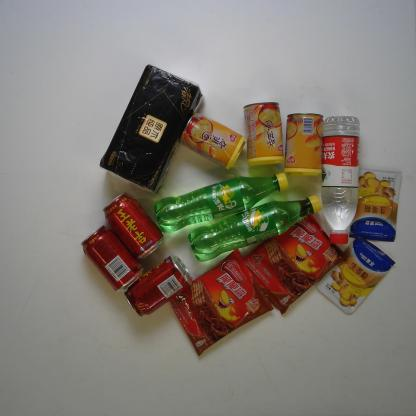Canned Food: (177, 111, 247, 171), (281, 109, 324, 179), (240, 101, 284, 166)
Dessert: (169, 246, 274, 358), (237, 210, 346, 317)
Drink: (189, 195, 326, 262), (155, 171, 292, 234), (318, 114, 360, 246), (80, 223, 144, 295), (122, 254, 193, 318), (102, 192, 164, 262)
Seasoner: (315, 236, 396, 317), (348, 166, 404, 243)
Tissue: (98, 62, 204, 195)
